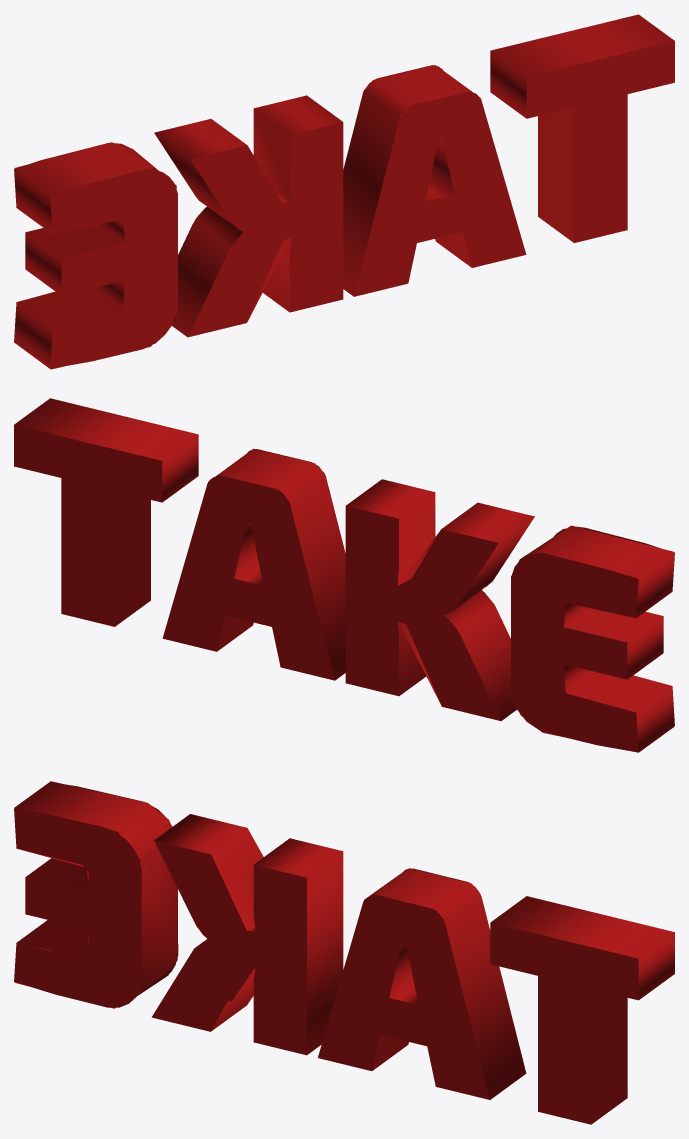
File: take.fbx
3 views of the same model, one above another, from view 1: azimuth 30°, elevation 25°; view 2: azimuth 150°, elevation 25°; view 3: azimuth 330°, elevation 25° (orthographic).
Visible parts, largest first — view 1: Text; view 2: Text; view 3: Text.
Boxes of the visible parts, <box> form: Text: <box>14,14,674,369</box>; Text: <box>14,398,674,752</box>; Text: <box>14,781,674,1124</box>.
Bounding box in the file's own units: 7.96 × 2.19 × 0.8.
